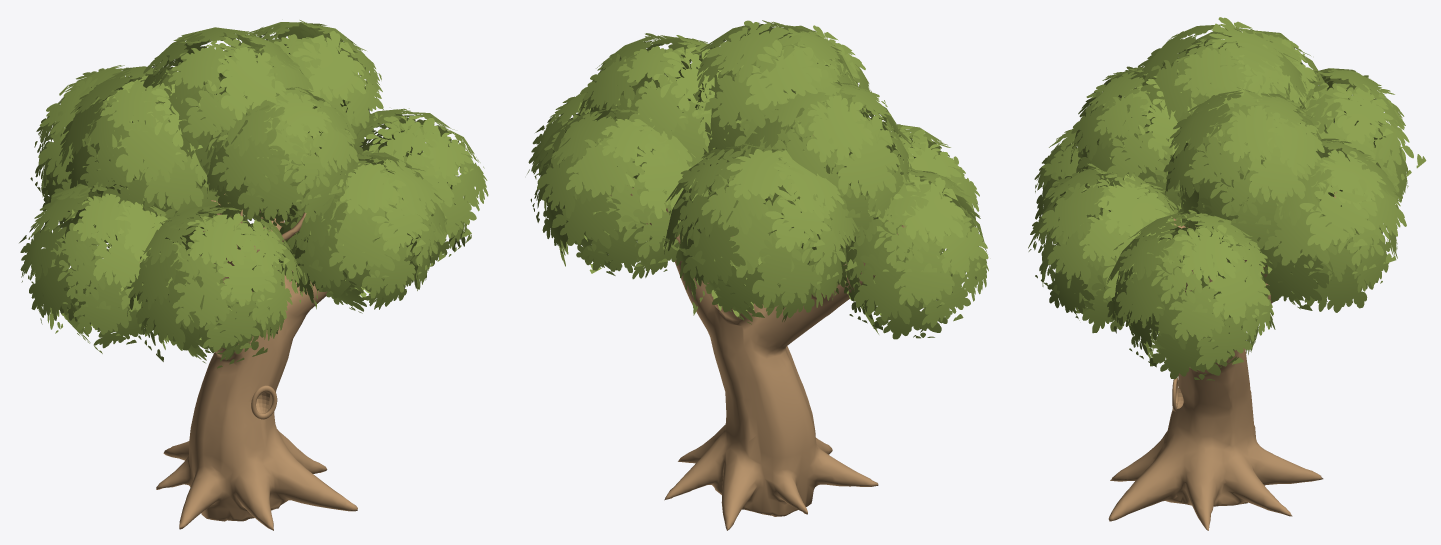
The model's file is oak_LOD0.fbx.
The picture shows the model from 3 angles, left to right: view 1: azimuth 30°, elevation 25°; view 2: azimuth 150°, elevation 25°; view 3: azimuth 270°, elevation 25°; orthographic projection. The views are drawn at different scales.
Parts seen in each view (by area): view 1: Leaves_LOD0, Trunk_LOD0; view 2: Leaves_LOD0, Trunk_LOD0; view 3: Leaves_LOD0, Trunk_LOD0.
Part boxes in pixels (x1,y1,x2,y2): Leaves_LOD0: (19, 20, 488, 368); Trunk_LOD0: (139, 193, 357, 530); Leaves_LOD0: (527, 20, 988, 339); Trunk_LOD0: (610, 135, 905, 530); Leaves_LOD0: (1028, 17, 1426, 380); Trunk_LOD0: (1108, 192, 1336, 530).
Size of the model in its own units: 733 by 740 by 578.
